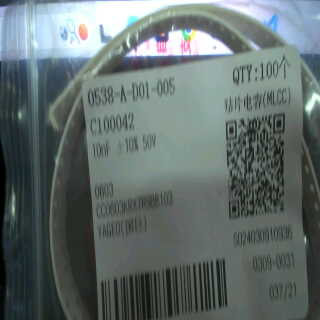10nF: (91, 137, 115, 165)
